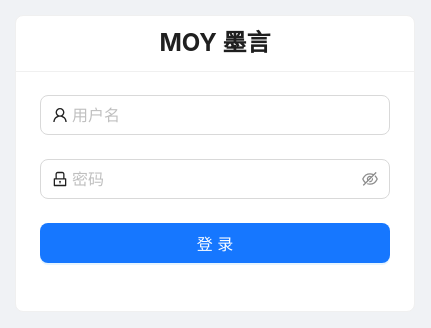
Test: Login 页面 - 表单验证 › 用户名为空时显示验证提示
Click the button at {"x": 215, "y": 242}, box [40,222,390,262]
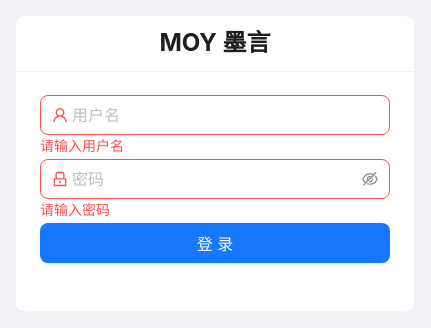
Expected: the text "请输入用户名" is shown, [40,136,124,154]
